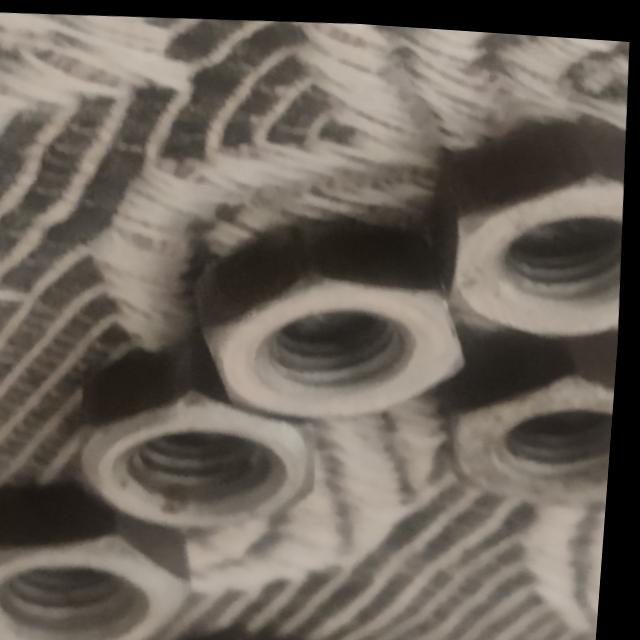disinfected nut: (199, 222, 465, 410), (85, 333, 319, 523), (442, 114, 627, 326), (0, 483, 199, 640), (444, 322, 622, 494)
